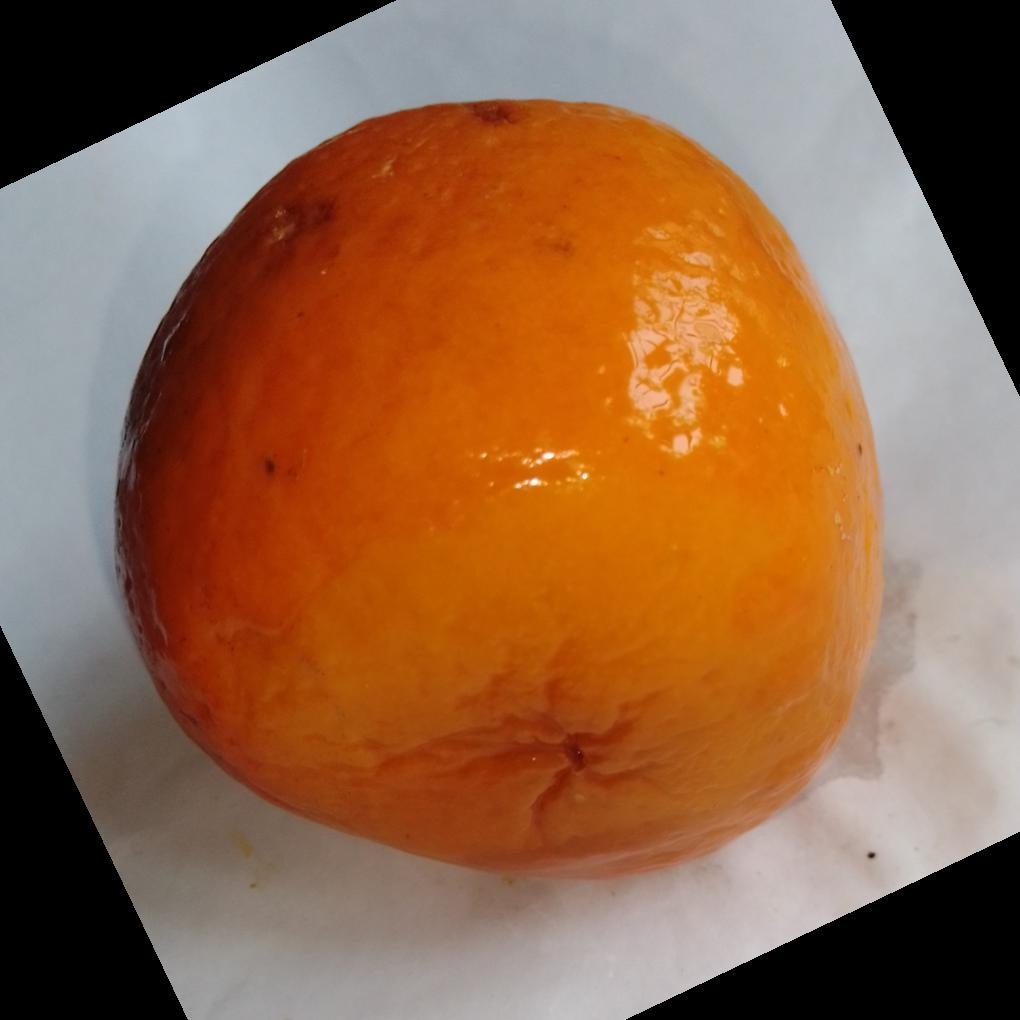FreshOrange: (107, 98, 886, 884)
